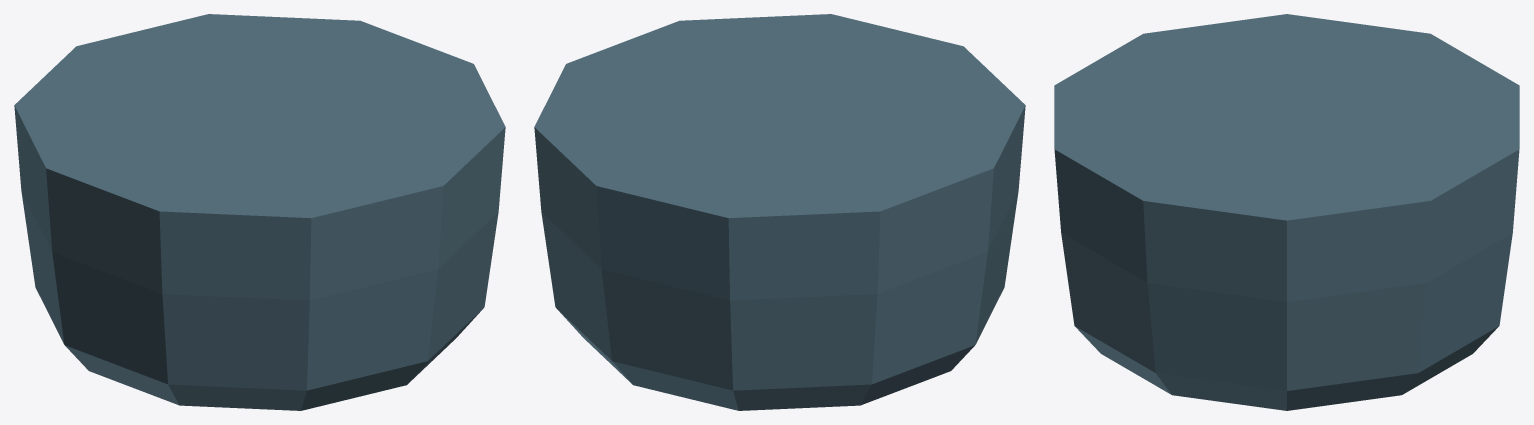
Rendered from trouser_thigh.glb.
The picture shows the model from 3 angles, left to right: view 1: azimuth 30°, elevation 25°; view 2: azimuth 150°, elevation 25°; view 3: azimuth 270°, elevation 25°; orthographic projection.
Parts seen in each view (by area): view 1: Trouser_thigh_skin; view 2: Trouser_thigh_skin; view 3: Trouser_thigh_skin.
Part boxes in pixels (bbox=[...]): Trouser_thigh_skin: bbox=[14, 14, 505, 410]; Trouser_thigh_skin: bbox=[534, 14, 1025, 410]; Trouser_thigh_skin: bbox=[1054, 14, 1519, 410].
Bounding box in the file's own units: 2.1 × 1 × 2.
